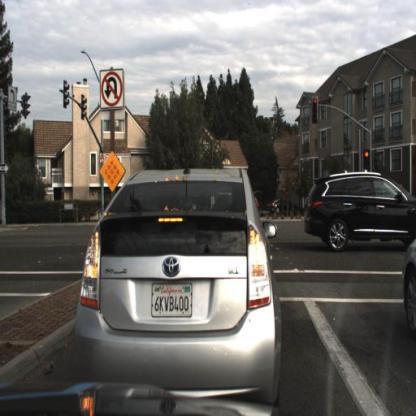car: (70, 159, 282, 399), (305, 169, 416, 255), (267, 197, 290, 216)
trafficLight-Red: (310, 91, 321, 127), (363, 148, 372, 174)
